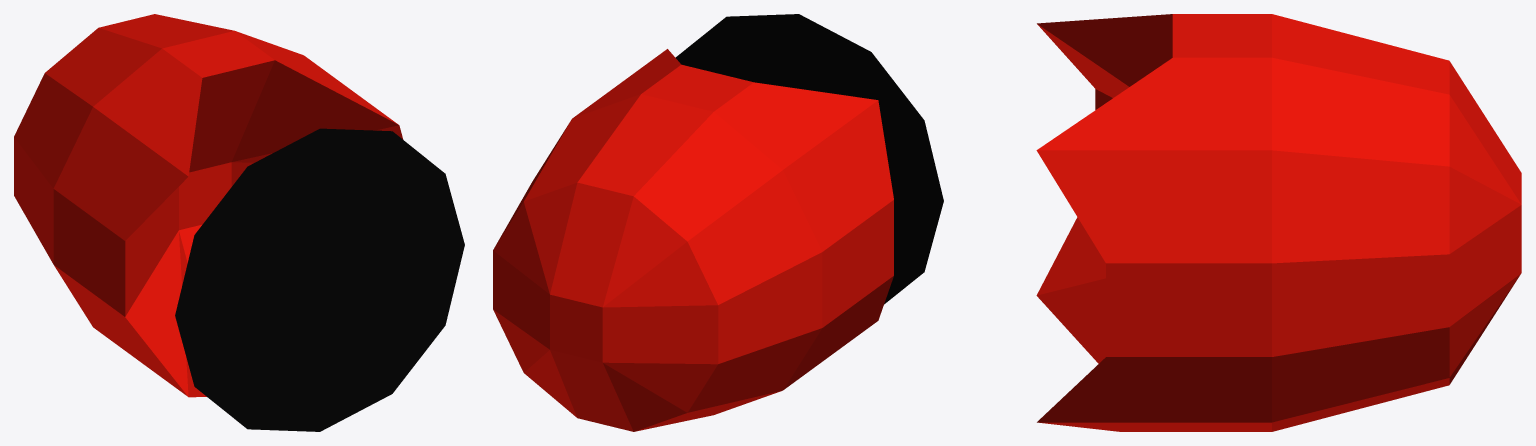
The model's file is EnemyRed.fbx.
The picture shows the model from 3 angles, left to right: view 1: azimuth 30°, elevation 25°; view 2: azimuth 150°, elevation 25°; view 3: azimuth 270°, elevation 25°; orthographic projection. The views are drawn at different scales.
Parts seen in each view (by area): view 1: Cube; view 2: Cube; view 3: Cube.
Boxes of the visible parts, x1,y1,x2,y2 form: Cube: (14,14,464,431); Cube: (493,14,943,431); Cube: (1036,14,1521,431).
Size of the model in its own units: 0.5318 by 0.5318 by 0.7073.
